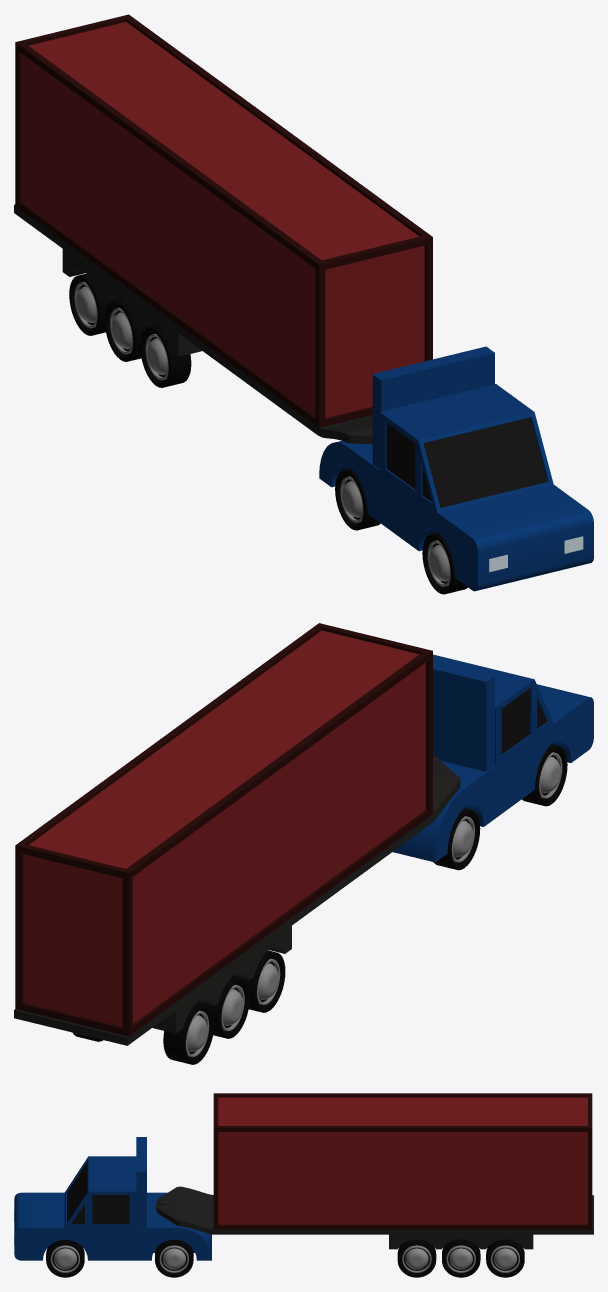
The model's file is truck.fbx.
3 views of the same model, one above another, from view 1: azimuth 30°, elevation 25°; view 2: azimuth 150°, elevation 25°; view 3: azimuth 270°, elevation 25° (orthographic). The views are drawn at different scales.
Parts seen in each view (by area): view 1: trailer, truck, trailer-tray, trailer-right-wheel1, trailer-right-wheel3, trailer-right-wheel2, rare-right-wheel, front-right-wheel; view 2: trailer, truck, trailer-tray, trailer-right-wheel3, trailer-right-wheel1, trailer-right-wheel2, rare-right-wheel, front-right-wheel; view 3: trailer, truck, trailer-tray, trailer-left-wheel1, trailer-left-wheel2, trailer-left-wheel3, rare-left-wheel, front-left-wheel.
Part boxes in pixels (box(x1,y1,x2,y2)): trailer: box(15, 14, 432, 427); truck: box(319, 346, 593, 591); trailer-tray: box(14, 204, 372, 443); trailer-right-wheel1: box(140, 325, 191, 387); trailer-right-wheel3: box(69, 273, 118, 335); trailer-right-wheel2: box(104, 299, 154, 361); rare-right-wheel: box(335, 468, 380, 530); front-right-wheel: box(422, 532, 467, 594); trailer: box(15, 623, 432, 1036); truck: box(393, 654, 593, 862); trailer-tray: box(14, 756, 460, 1045); trailer-right-wheel3: box(163, 1002, 214, 1064); trailer-right-wheel1: box(236, 950, 285, 1012); trailer-right-wheel2: box(200, 976, 249, 1038); rare-right-wheel: box(433, 808, 480, 870); front-right-wheel: box(522, 744, 567, 806); trailer: box(213, 1093, 592, 1229); truck: box(14, 1137, 211, 1260); trailer-tray: box(156, 1186, 593, 1249); trailer-left-wheel1: box(397, 1239, 436, 1277); trailer-left-wheel2: box(442, 1239, 480, 1277); trailer-left-wheel3: box(486, 1239, 524, 1277); rare-left-wheel: box(155, 1239, 193, 1277); front-left-wheel: box(46, 1239, 84, 1277).
Size of the model in its own units: 70.71 by 134 by 471.
